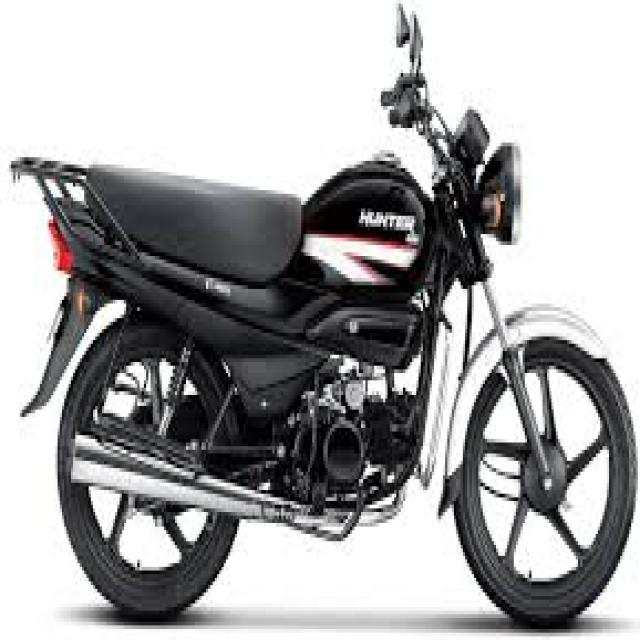bodaboda: (4, 5, 638, 640)
